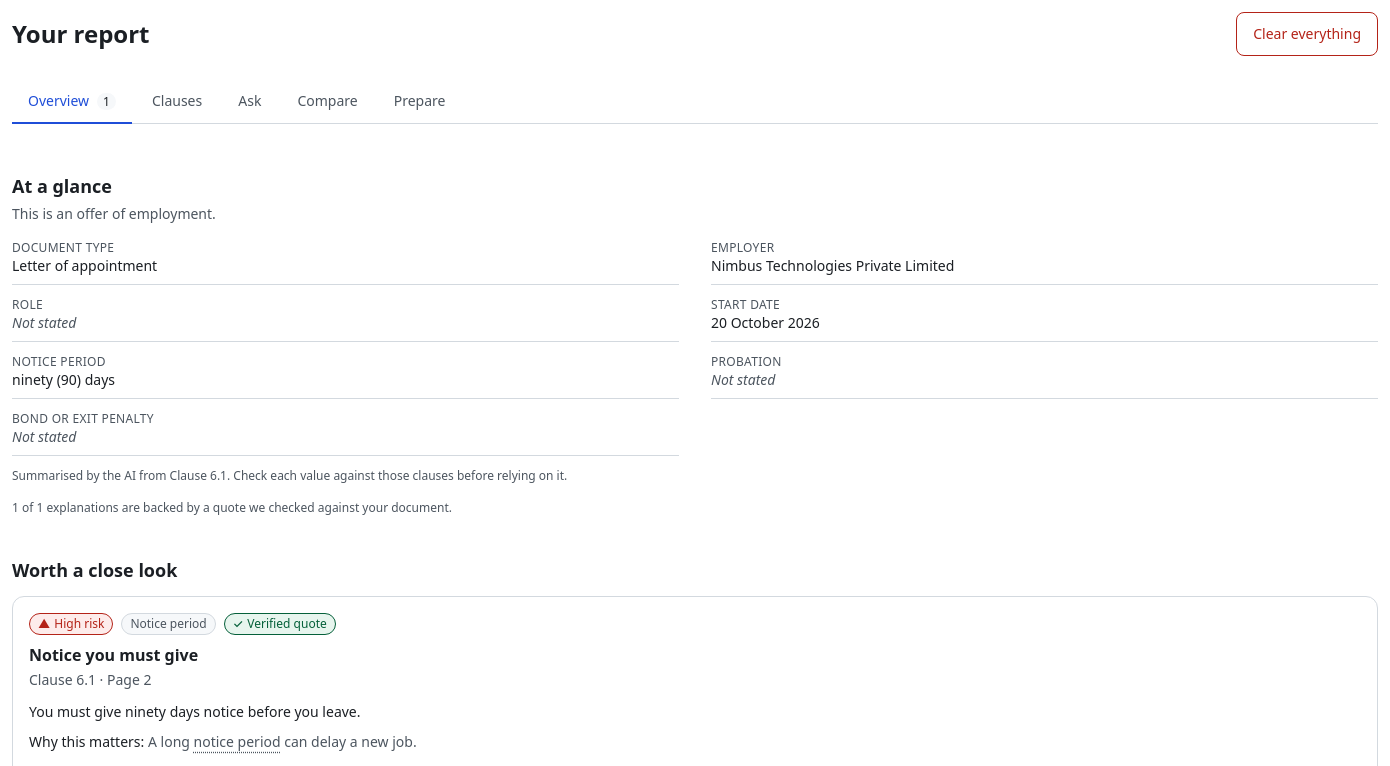
Test: ReportScreen: an expired session › says so instead of doing nothing when preparing without a session
This screenshot has width=1390, height=766.
Click the tab "Prepare": (420, 102) [378,80,461,124]
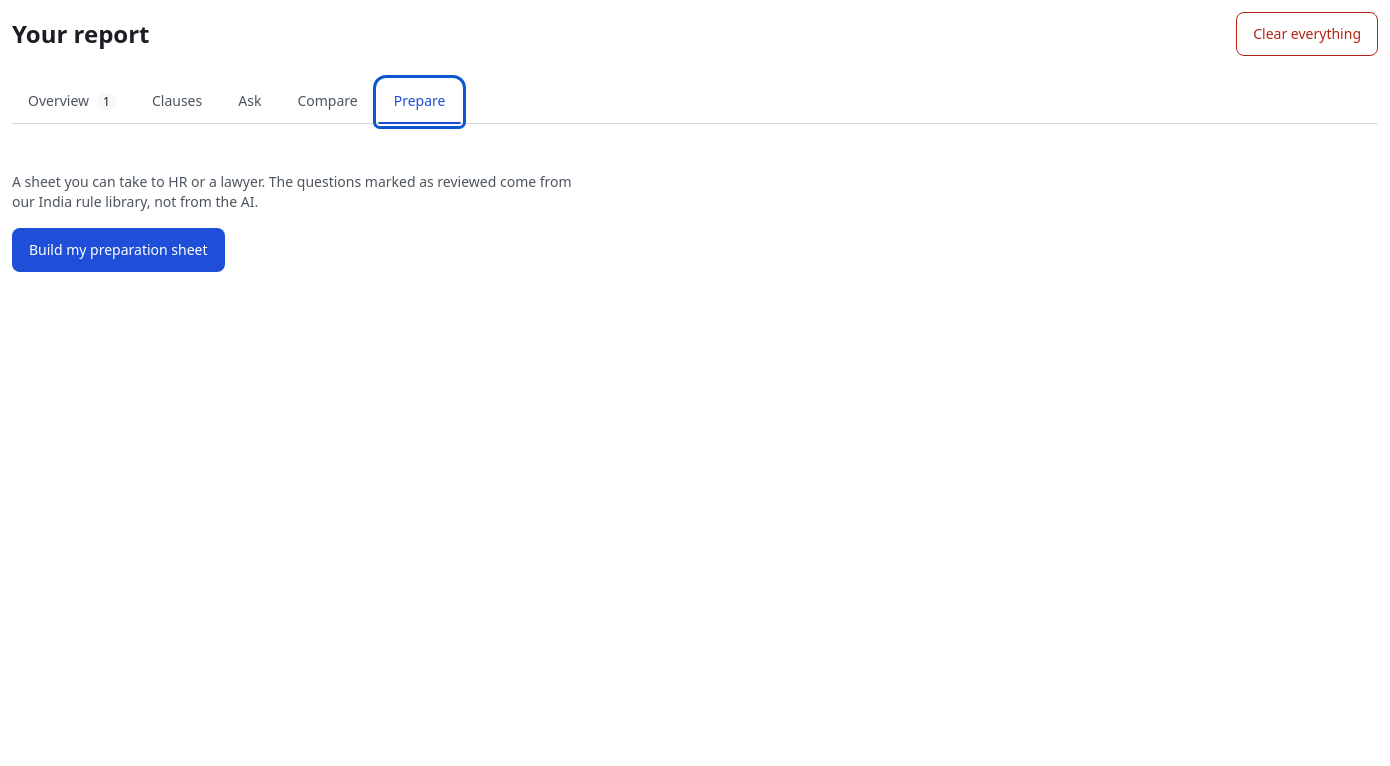
Click the button "Build my preparation sheet": (118, 250) [12,228,225,272]
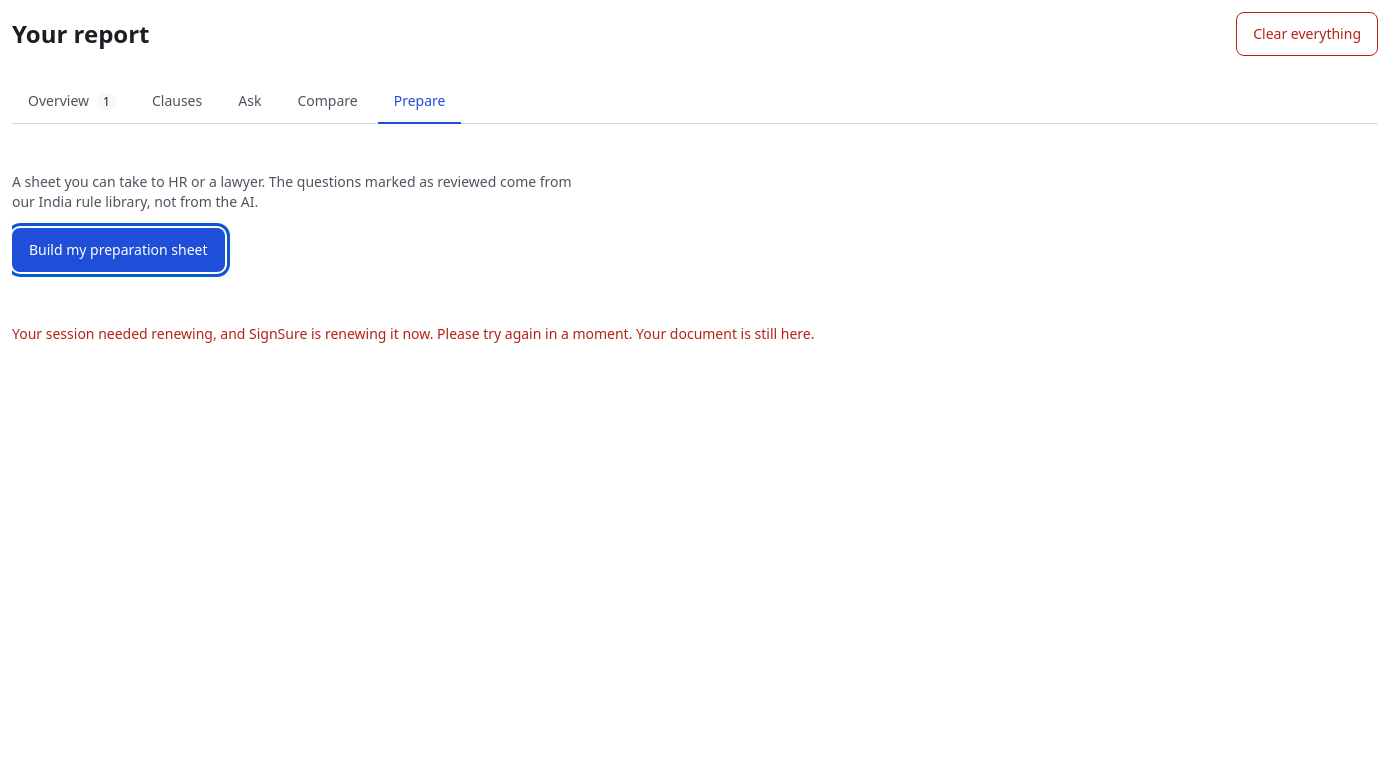
Expected: the text "renewing it now" is shown, [12,324,814,343]
